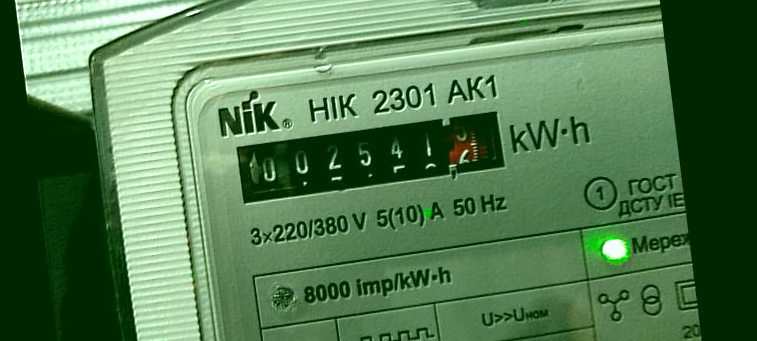0: (290, 143, 313, 178), (260, 153, 280, 183)
1: (416, 124, 436, 159)
2: (320, 138, 345, 174)
4: (386, 129, 406, 162)
5: (354, 136, 374, 170)
6: (454, 144, 472, 167)
screen: (219, 94, 528, 220)
